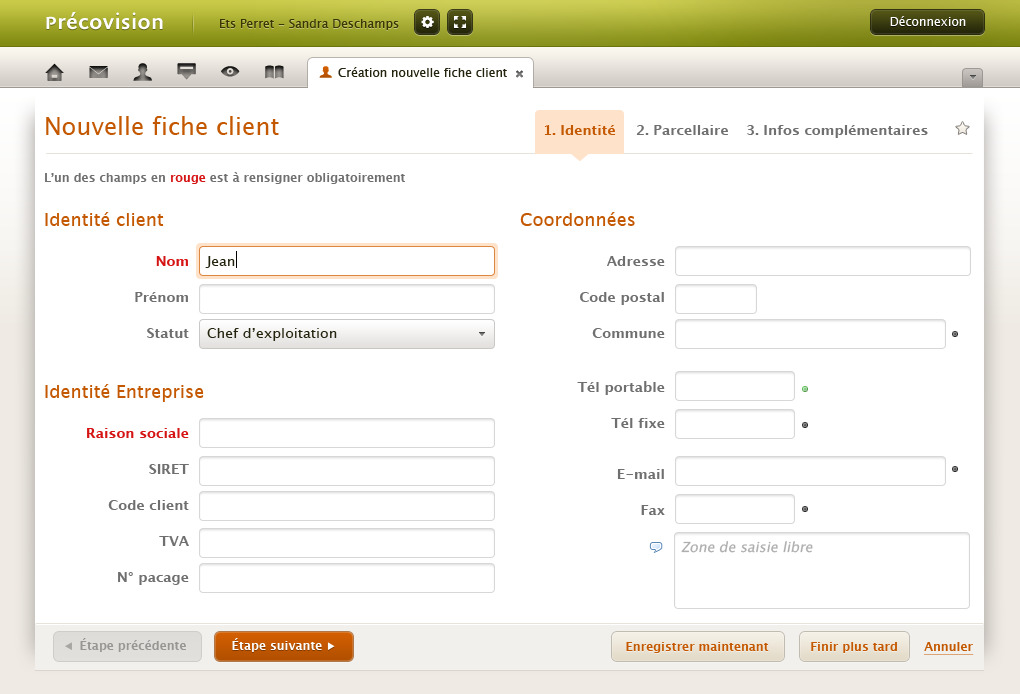_form_: (101, 193, 517, 610), (563, 208, 979, 625), (565, 278, 981, 694)
button: (609, 630, 787, 663), (50, 628, 205, 663), (213, 629, 356, 665), (799, 630, 913, 665), (868, 7, 989, 38)
field: (672, 530, 971, 610), (195, 280, 498, 318), (669, 243, 973, 280), (193, 524, 497, 561), (193, 243, 499, 279), (193, 415, 497, 451), (193, 561, 498, 596), (193, 453, 496, 488), (193, 488, 497, 522), (668, 317, 948, 351), (670, 456, 949, 488), (201, 322, 497, 350), (669, 492, 798, 526), (670, 407, 797, 440), (672, 370, 797, 402), (669, 283, 759, 316)
field_with_label: (604, 239, 978, 283), (85, 414, 500, 452), (132, 279, 501, 321), (106, 488, 502, 527), (115, 559, 501, 599), (155, 239, 503, 280), (592, 315, 952, 353), (150, 453, 498, 491), (158, 524, 501, 562), (616, 453, 952, 490), (142, 319, 497, 349), (575, 367, 802, 404), (574, 277, 761, 318), (612, 404, 800, 442), (639, 487, 801, 529)
